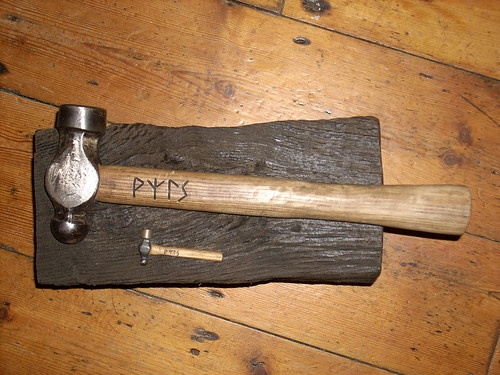hammer: (44, 102, 469, 245)
